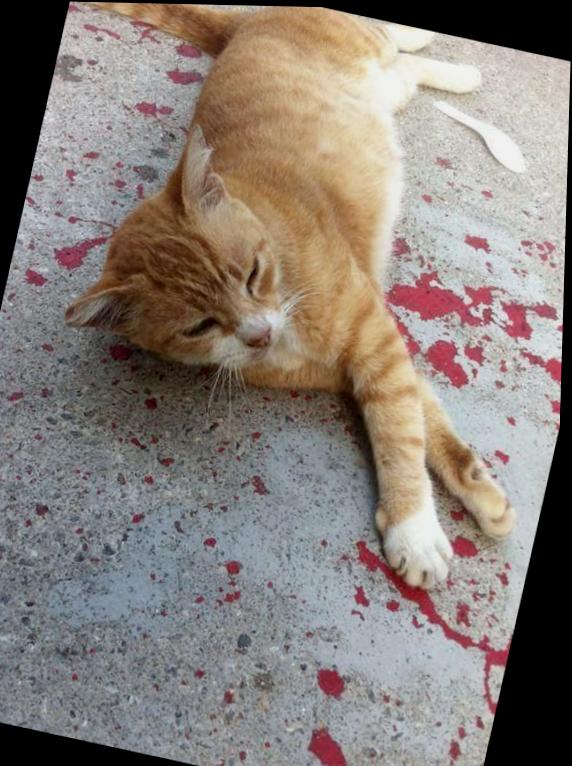Fire: (23, 19, 205, 286), (360, 532, 515, 713), (388, 265, 565, 396), (411, 199, 558, 263), (500, 297, 565, 383), (53, 50, 107, 88), (312, 728, 351, 766), (313, 729, 351, 766), (393, 218, 424, 253), (321, 668, 348, 698), (258, 672, 276, 689), (227, 560, 245, 575), (240, 633, 254, 651), (359, 586, 372, 604), (227, 592, 244, 602), (555, 398, 563, 414)
